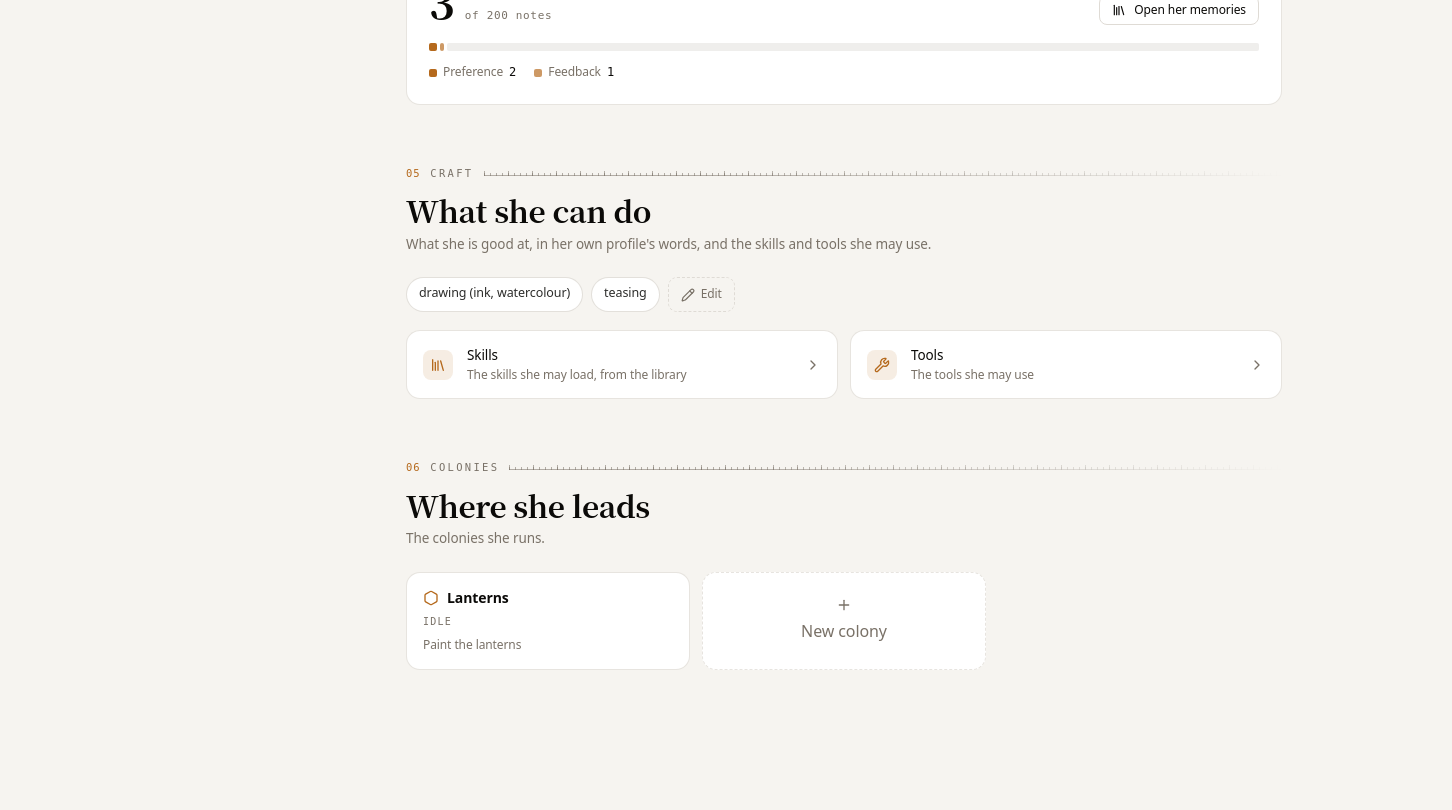
Test: QueenProfilePage › leads to the colonies she runs
(page scrolled)
Click the text "Lanterns" at (466, 598), box [423,587,509,608]
(page scrolled)
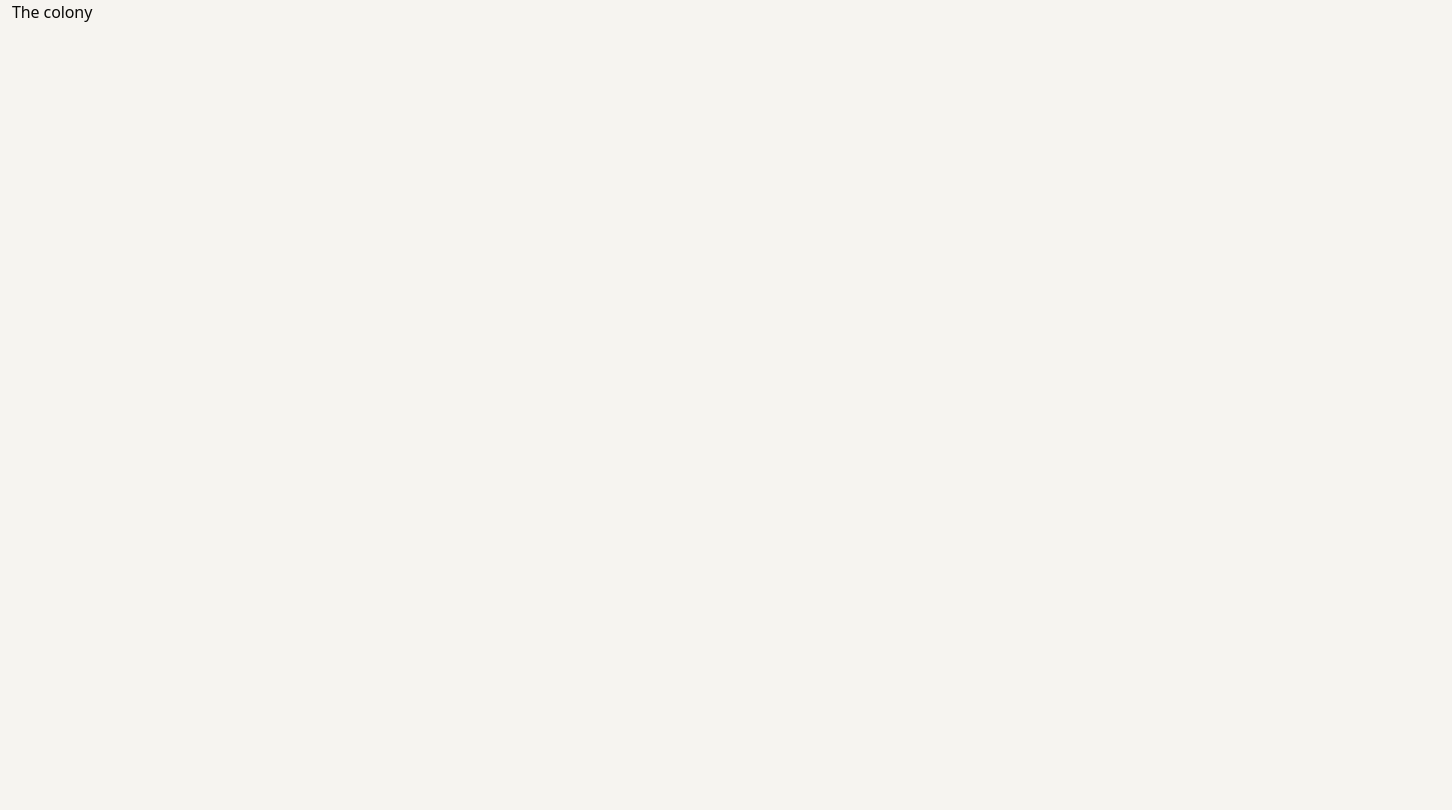
Check: the text "The colony" is shown, box [12,1,92,23]
